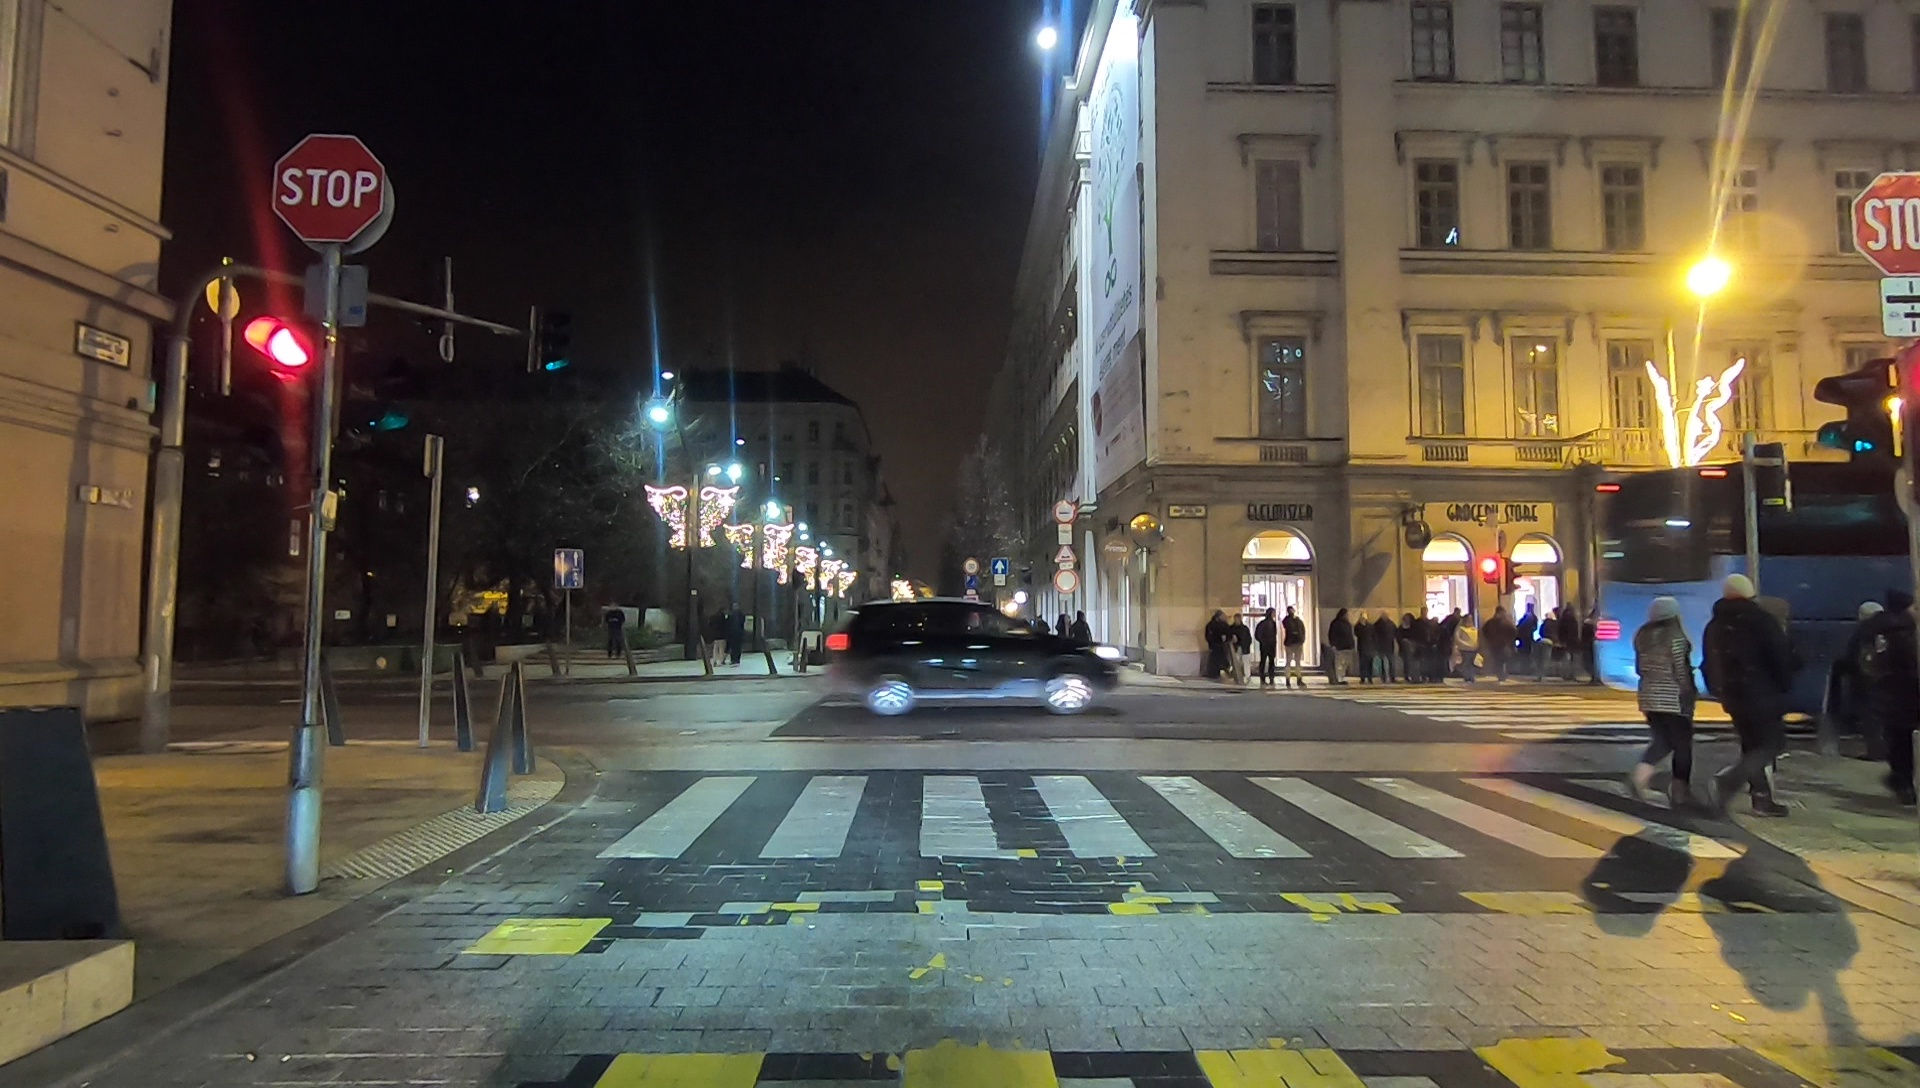person: (1708, 582, 1795, 811), (1626, 602, 1699, 806), (1862, 589, 1920, 800), (1330, 611, 1354, 682), (1397, 606, 1417, 686), (1484, 610, 1510, 673), (1356, 610, 1375, 686), (1286, 610, 1306, 682), (1375, 613, 1397, 676), (1226, 613, 1247, 674), (1208, 608, 1226, 676), (1258, 615, 1278, 678), (1515, 611, 1534, 678)
